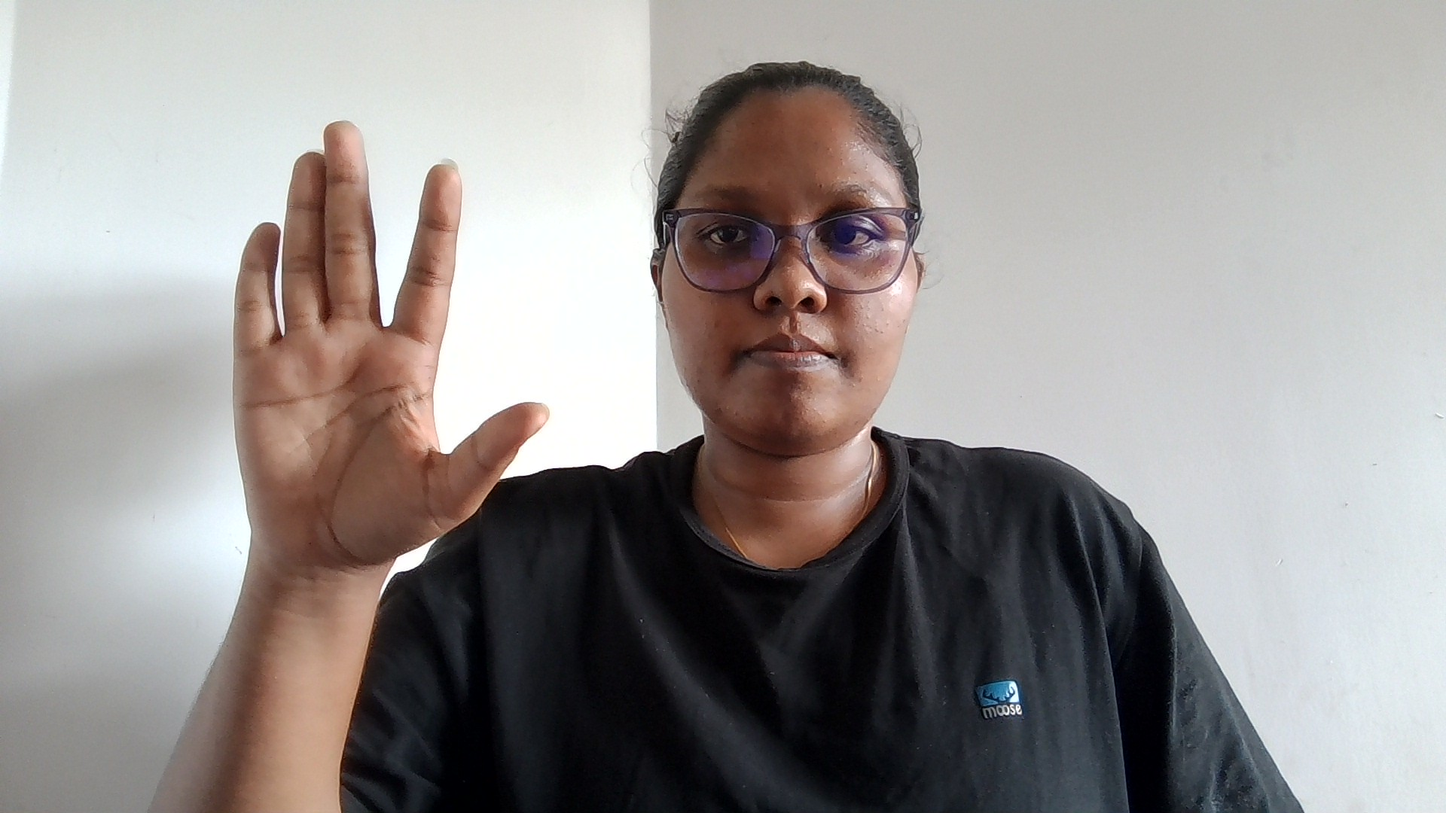Hello: (213, 112, 582, 600)
